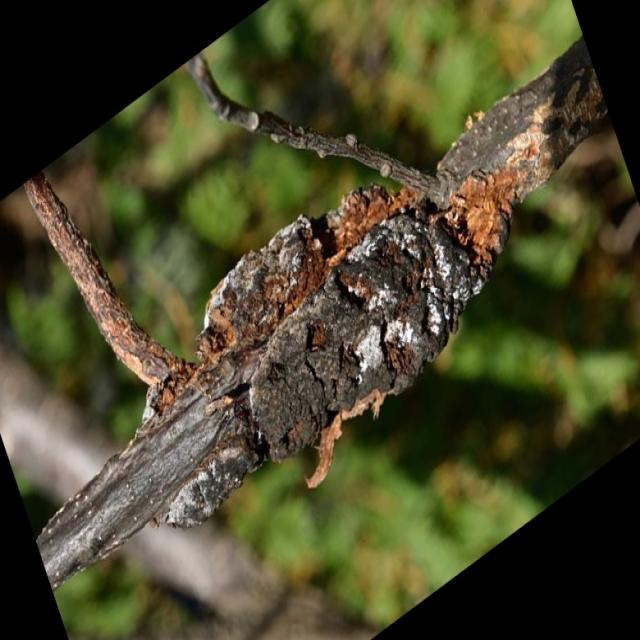Black_knot: (14, 31, 614, 606), (247, 202, 465, 466)
